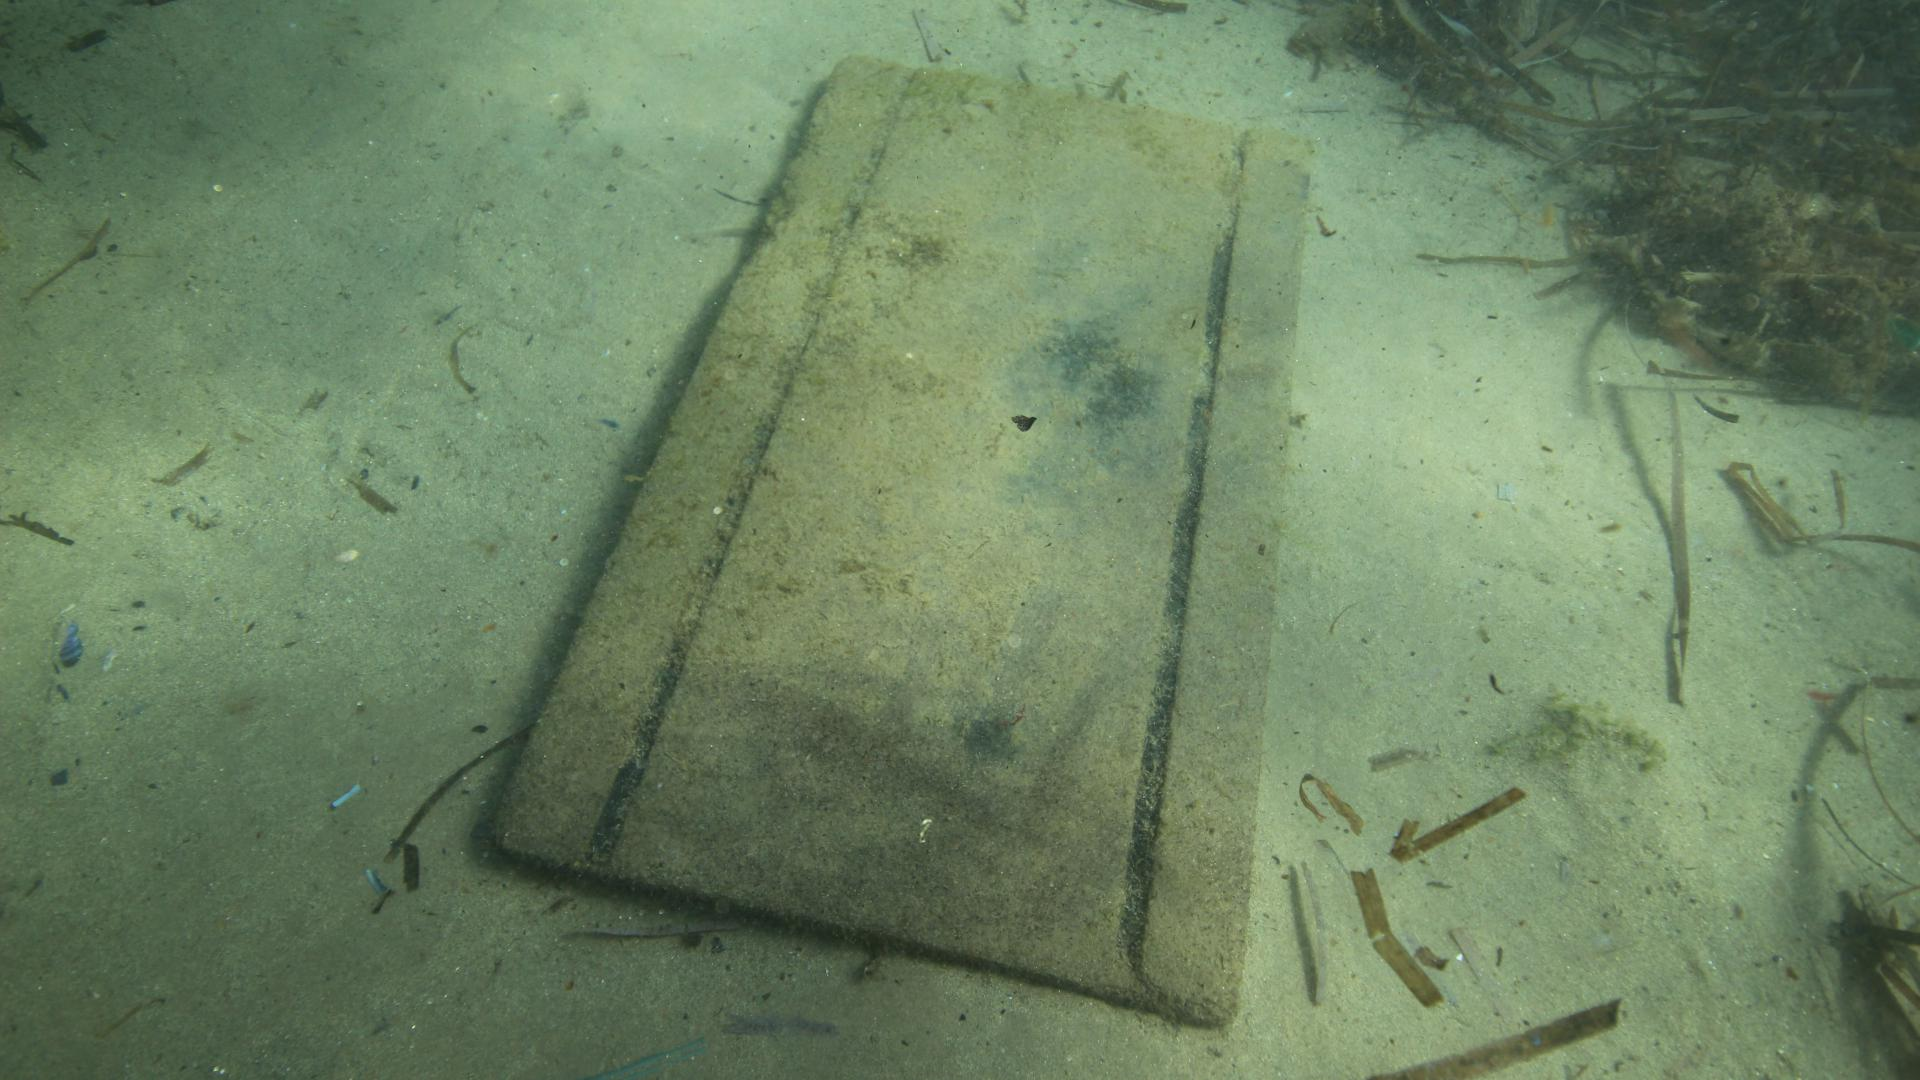wood: (495, 53, 1315, 1031)
